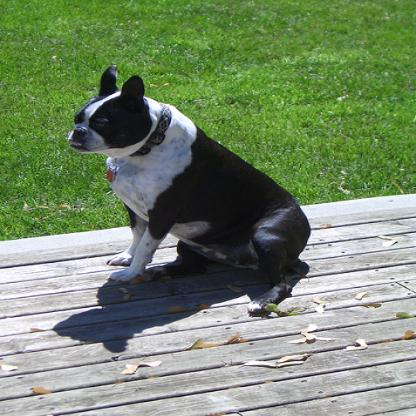dog: (67, 64, 313, 315)
